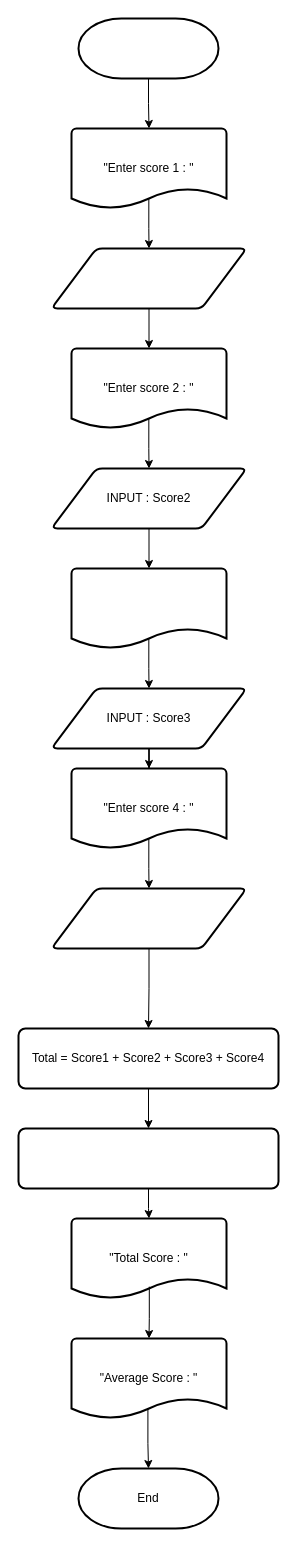
The diagram is 296 pixels wide and 1546 high, and some of its shapes have lost their labels. Each missing label, with the box of its shape:
"Enter score 3 : ": (70, 567, 227, 649)
Average = Total/4: (17, 1127, 279, 1189)
INPUT : Score1: (50, 247, 247, 309)
INPUT : Score4: (50, 887, 247, 949)
Start: (77, 17, 219, 79)
